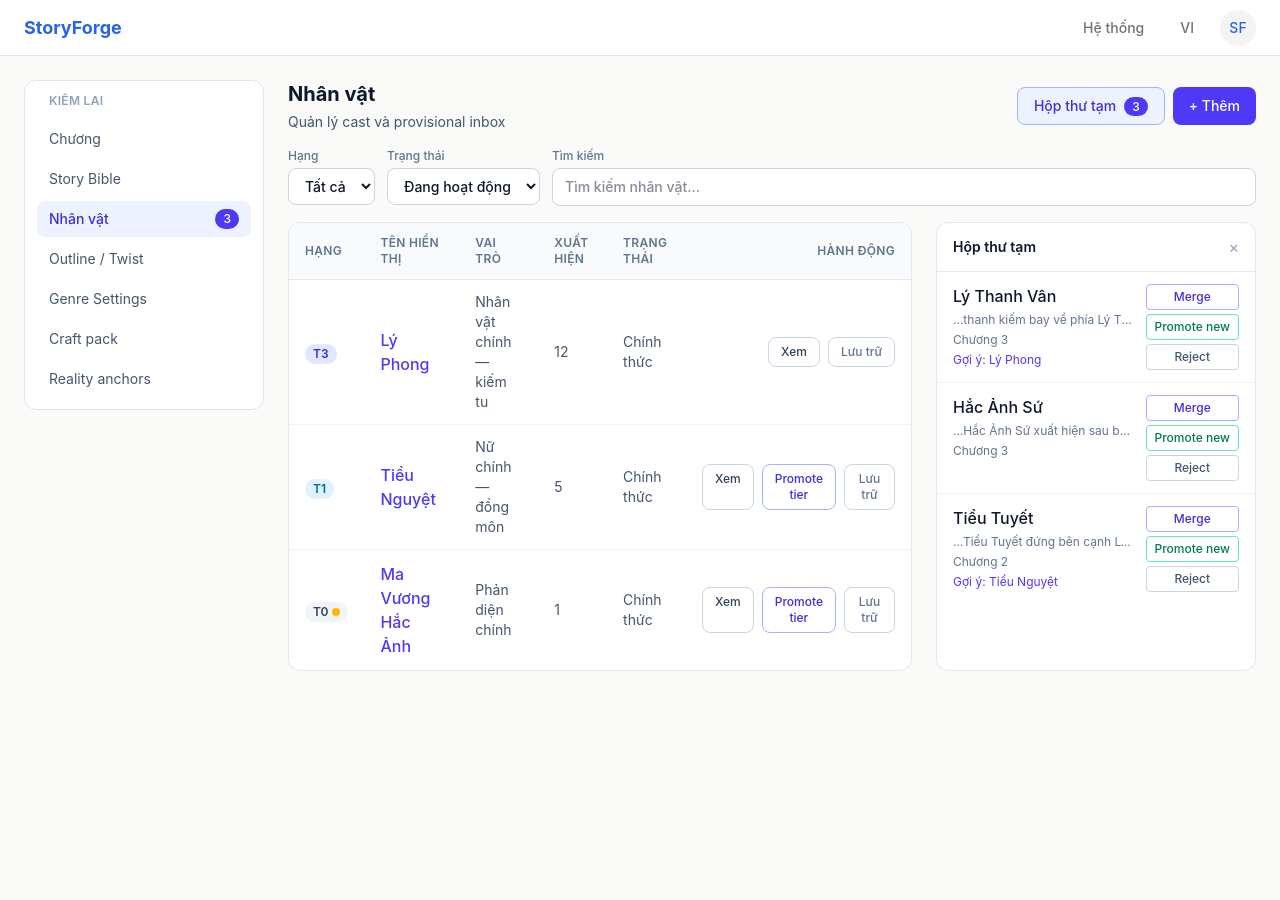
CharactersPage › creates a new character
Click the button "+ Thêm".
click(1214, 106)  # box 1173,87 -> 1256,125
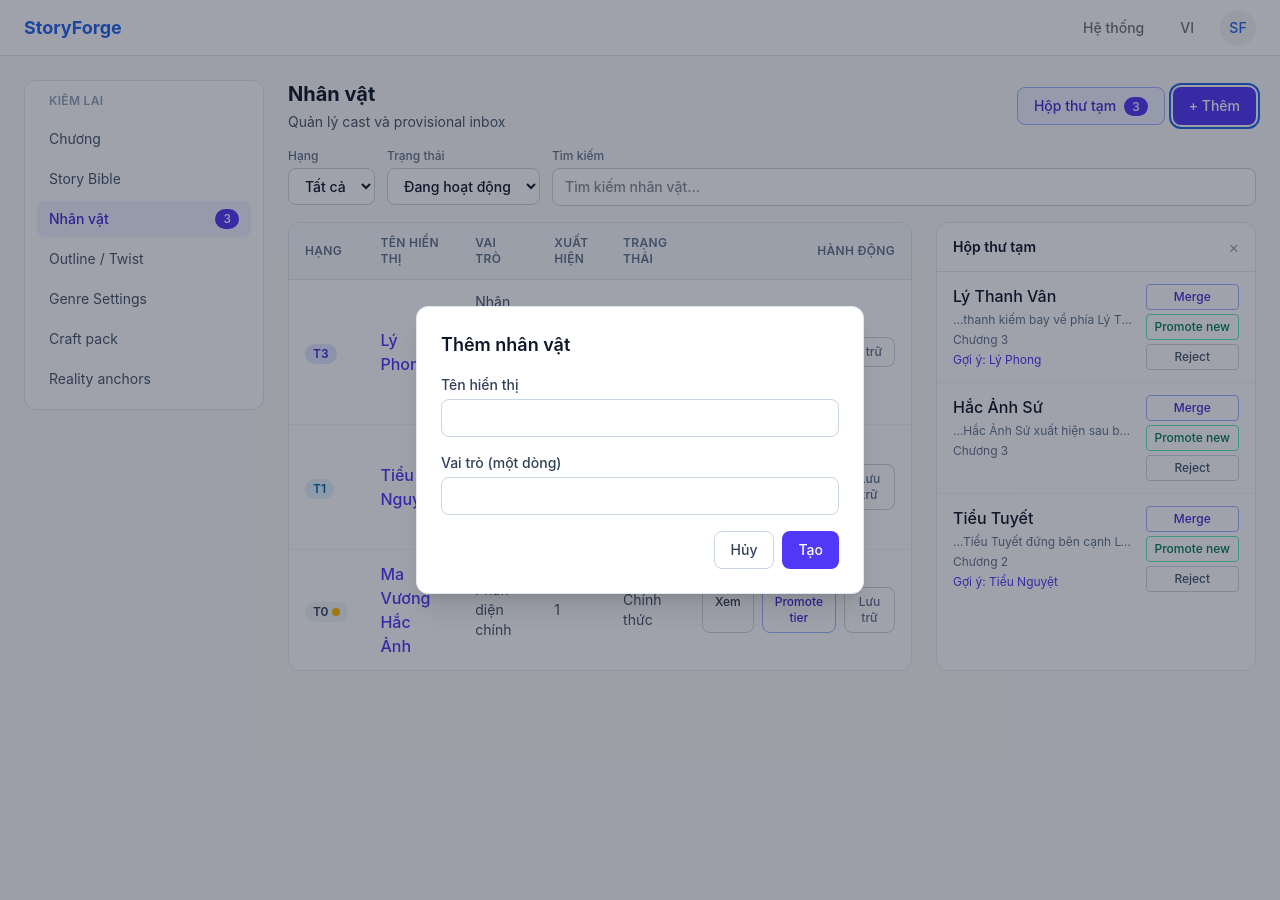
Type "Nhân vật mới" into the field labelled "Tên hiển thị".
click(640, 418); type("Nhân vật mới")  # box 441,399 -> 839,437
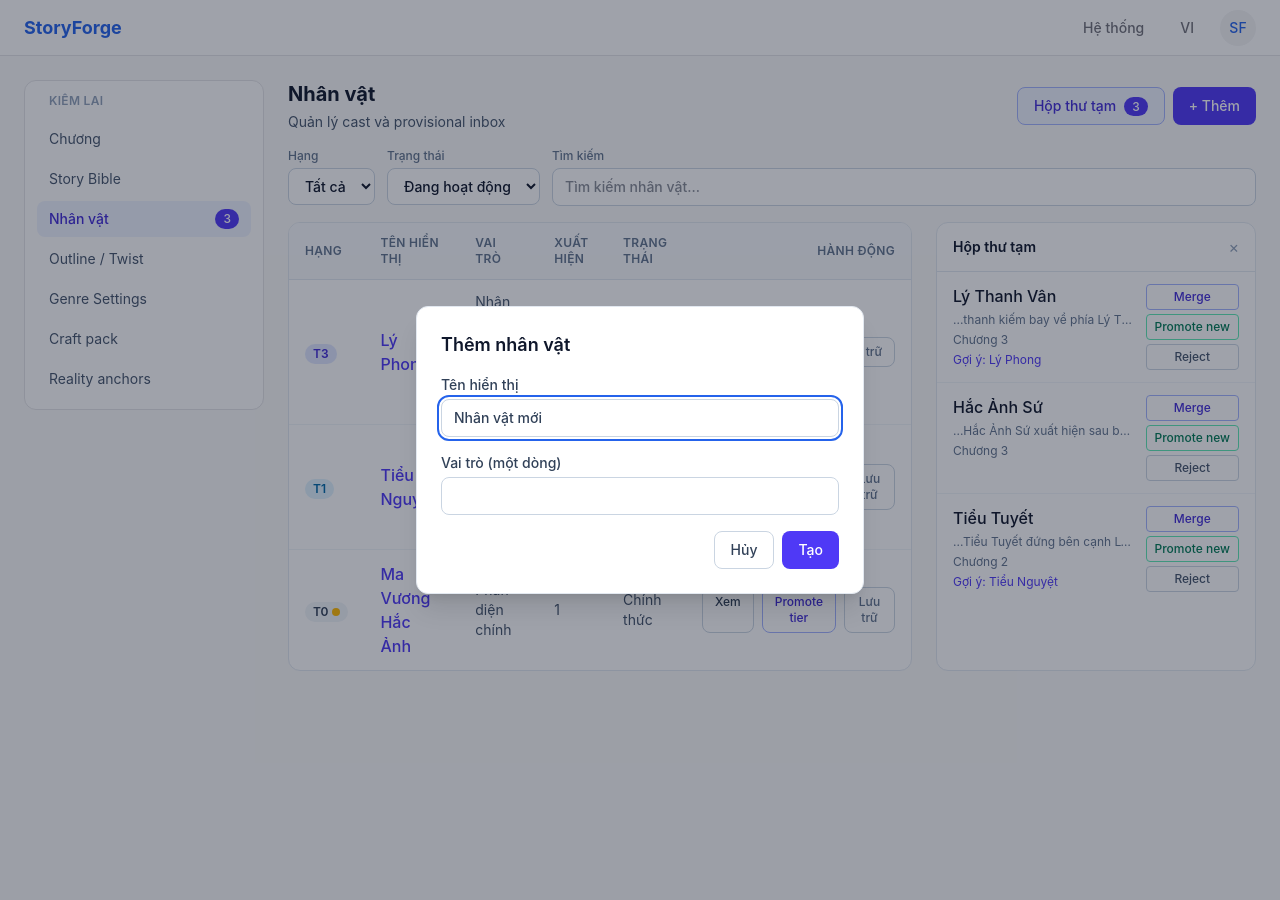
Click the button "Tạo".
click(811, 550)  # box 782,531 -> 839,569
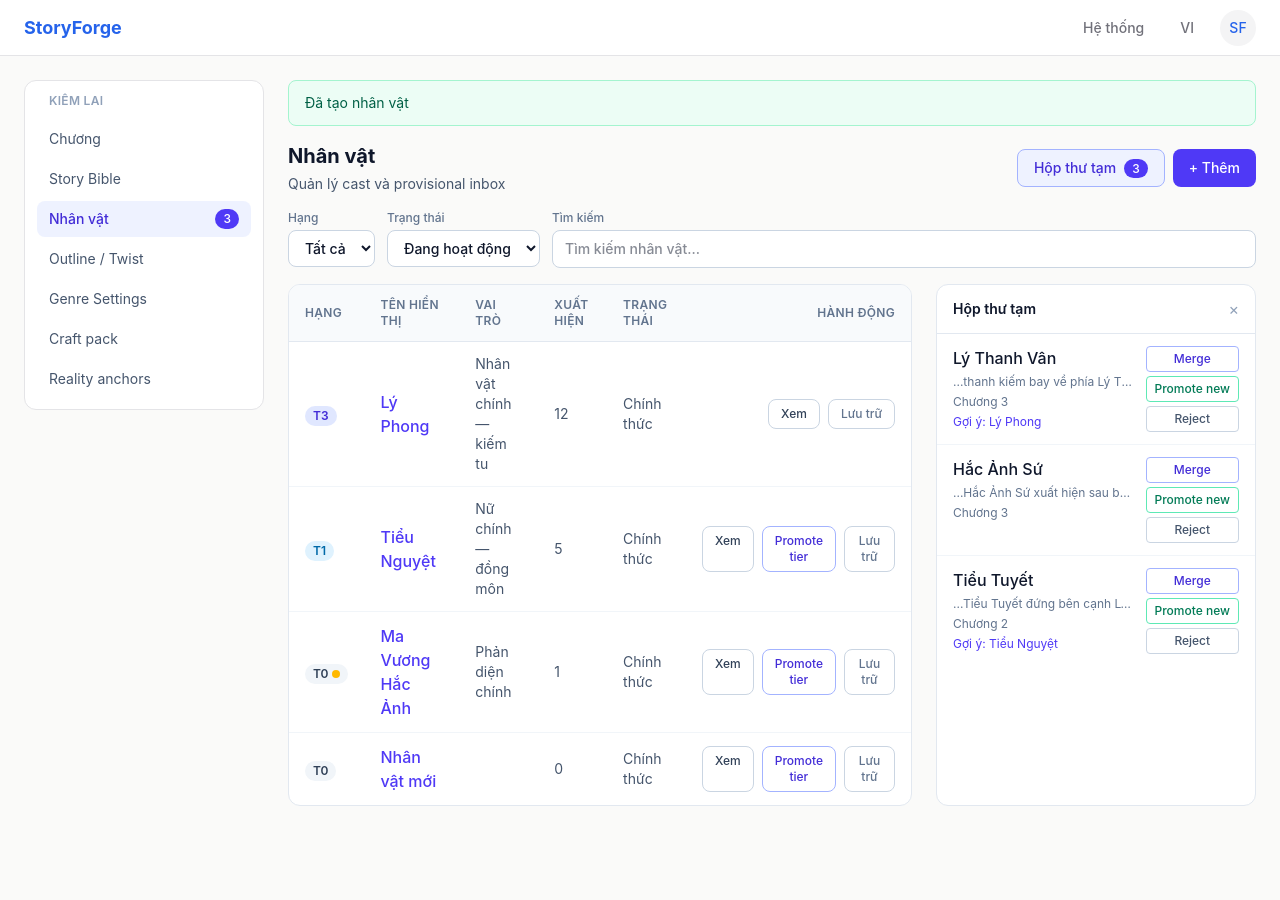
expect the text "Đã tạo nhân vật" is shown: met, box 288,80 -> 1256,126
